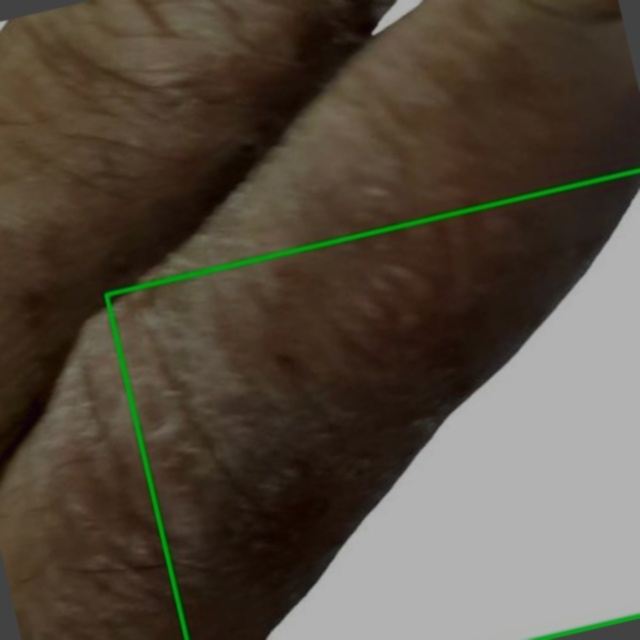Contact Dermatitis: (106, 170, 639, 639)
